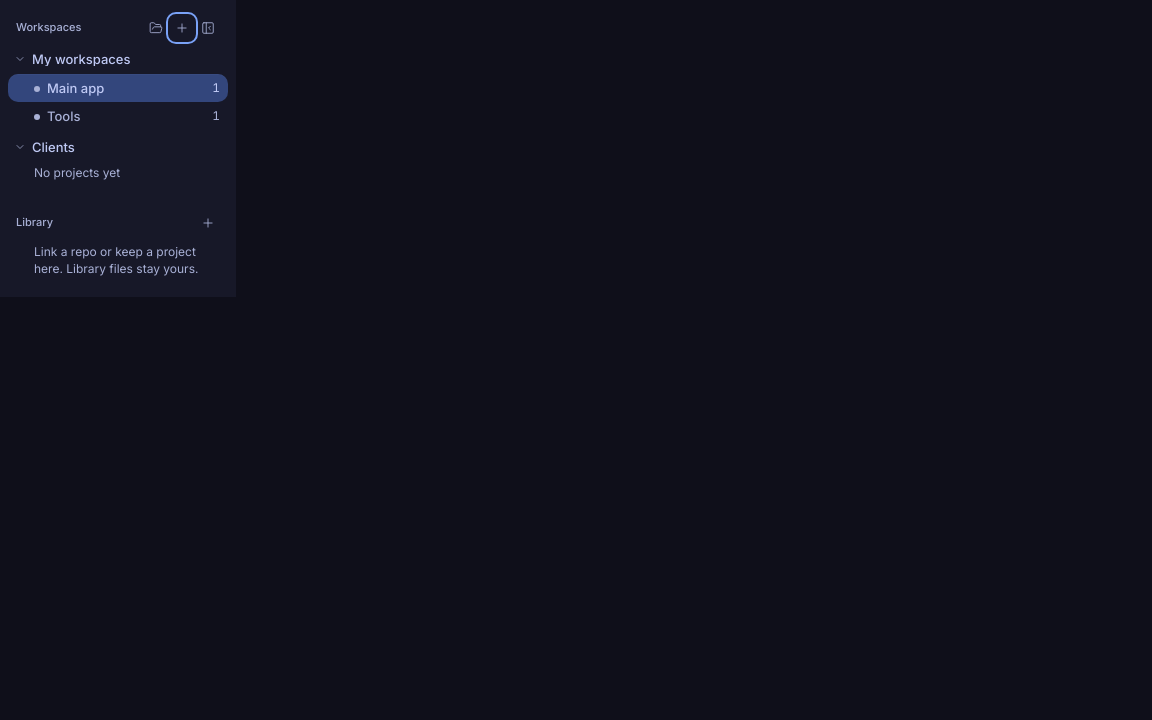
Test: VerticalTabBar › focuses workspace creation and restores the opener on Escape
Click the button named "New workspace".
click(182, 28)  # box [170, 16, 194, 40]
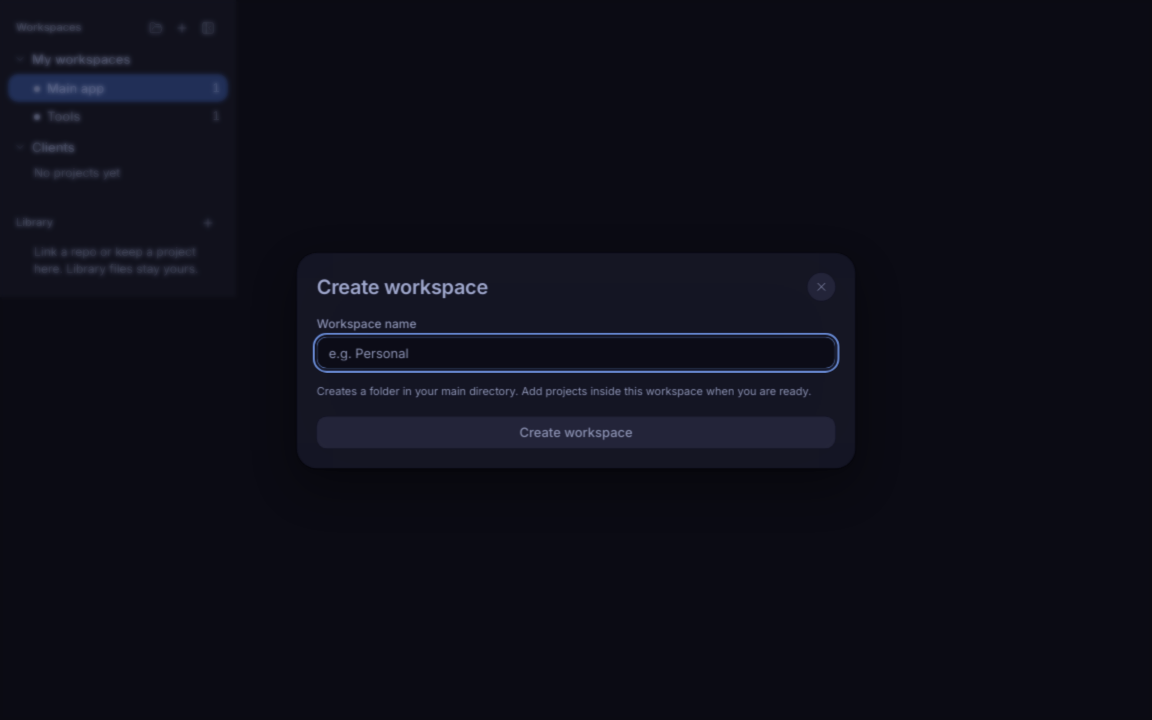
Press Escape in the field labelled "Workspace name", box [316, 336, 836, 368]
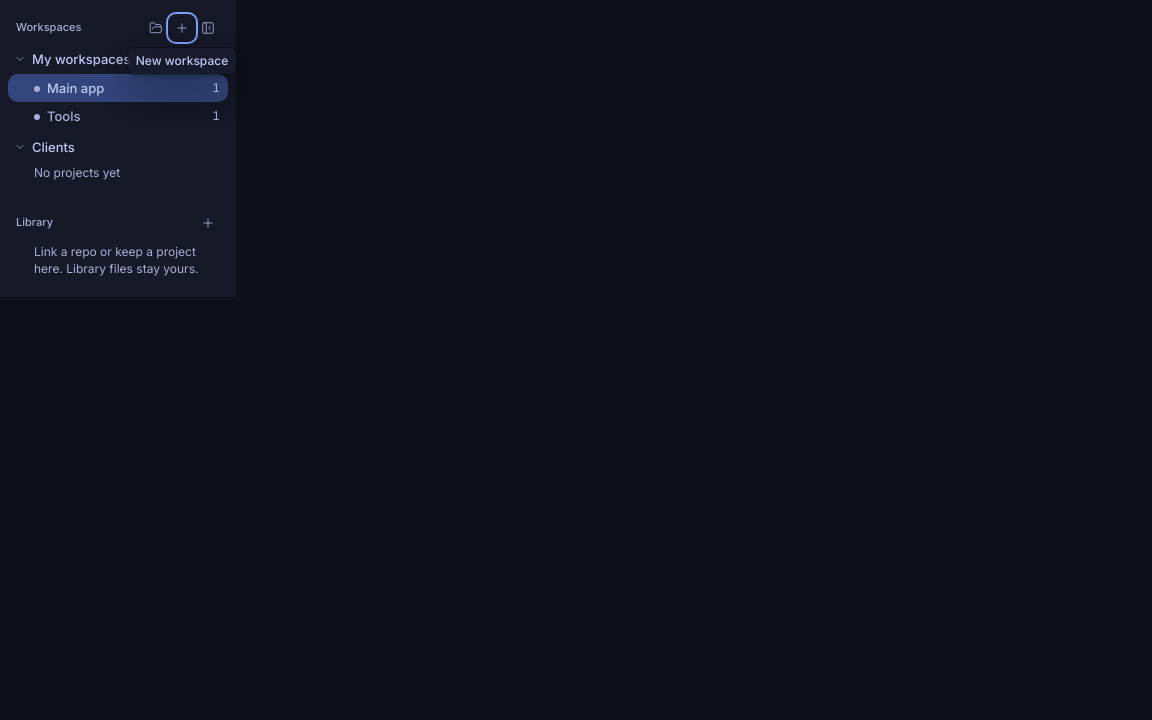
Now the dialog is gone
